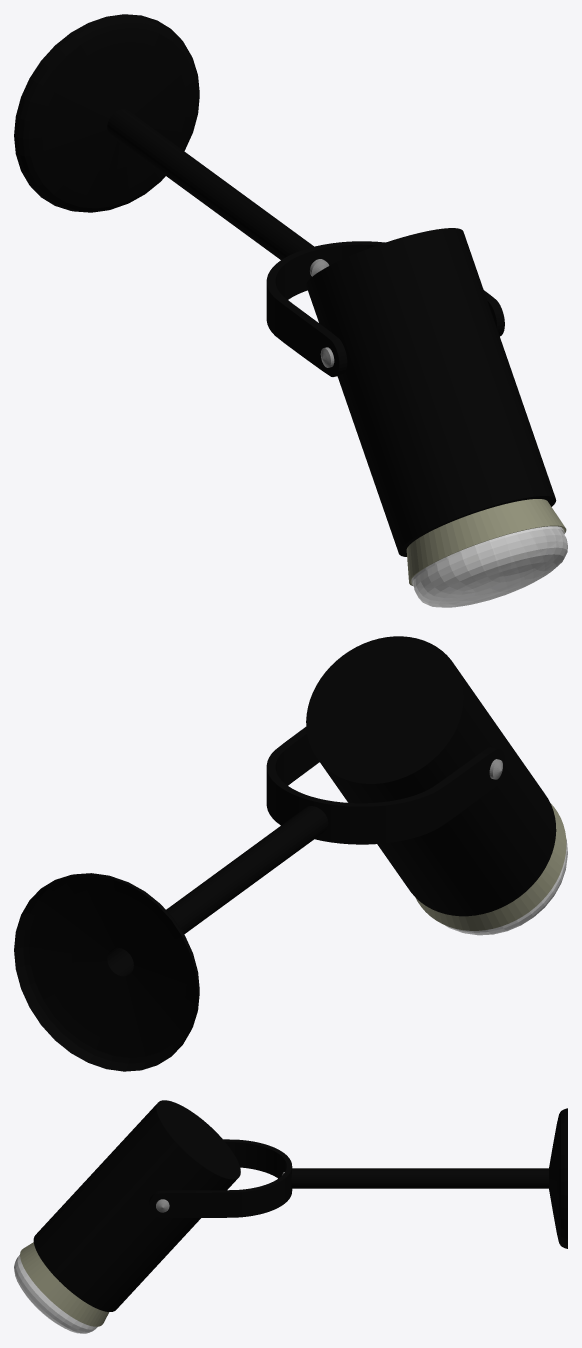
The model's file is wall-spotlight.obj.
3 views of the same model, one above another, from view 1: azimuth 30°, elevation 25°; view 2: azimuth 150°, elevation 25°; view 3: azimuth 270°, elevation 25° (orthographic). The views are drawn at different scales.
Visible parts, largest first — view 1: Spot_fixture, Wall_spot_base, Spot_swivel; view 2: Spot_fixture, Wall_spot_base, Spot_swivel; view 3: Spot_fixture, Wall_spot_base, Spot_swivel.
Part boxes in pixels (bbox=[...]): Spot_fixture: bbox=[306, 228, 567, 607]; Wall_spot_base: bbox=[14, 14, 329, 276]; Spot_swivel: bbox=[266, 241, 504, 376]; Spot_fixture: bbox=[306, 636, 567, 935]; Wall_spot_base: bbox=[14, 806, 328, 1071]; Spot_swivel: bbox=[266, 727, 504, 844]; Spot_fixture: bbox=[14, 1100, 240, 1333]; Wall_spot_base: bbox=[282, 1108, 567, 1248]; Spot_swivel: bbox=[149, 1139, 292, 1217].
Bounding box in the file's own units: 0.5765 × 0.9887 × 2.26.
